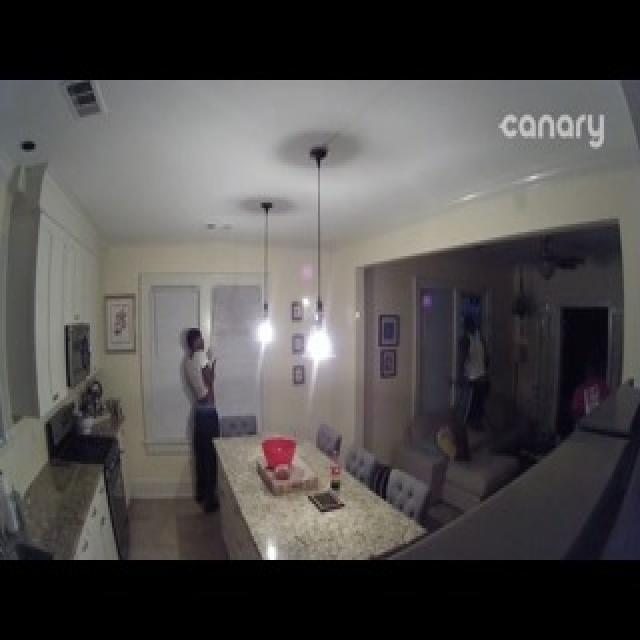thief: (172, 320, 227, 510)
